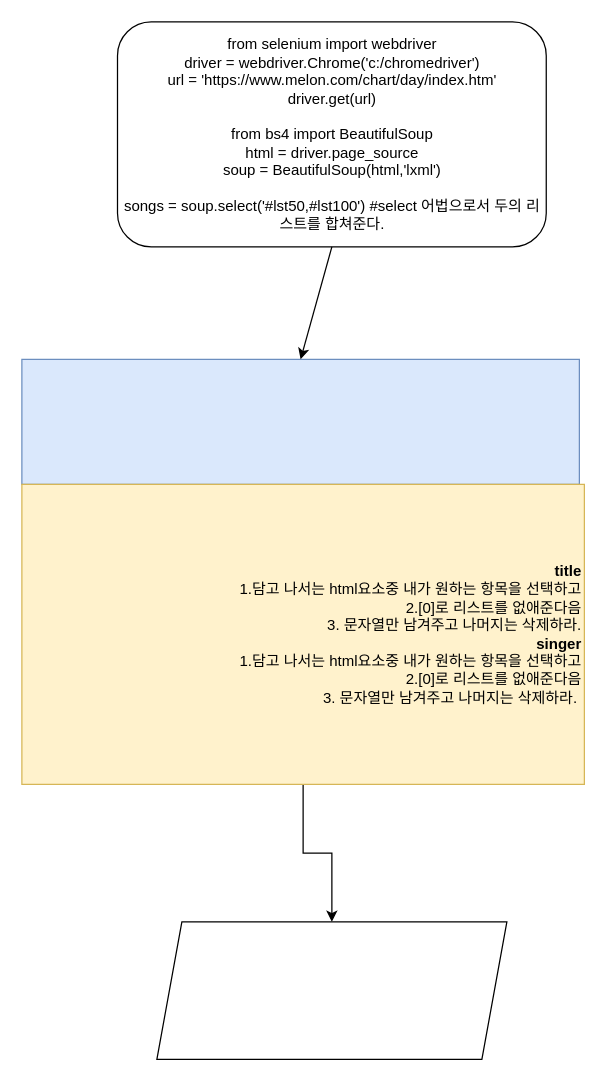
Some shapes in this 606 by 1081 pixel diagram are drawn without their labels. Here are the shapes that lost their labels. From the top down, the centre of each, then its label:
point (300, 421): for 반복문 songs리스트 안에 있는 항목들을 song에 담아라.
point (331, 990): print title,singer를 중간에 '|'문자와 함께 출력하라
